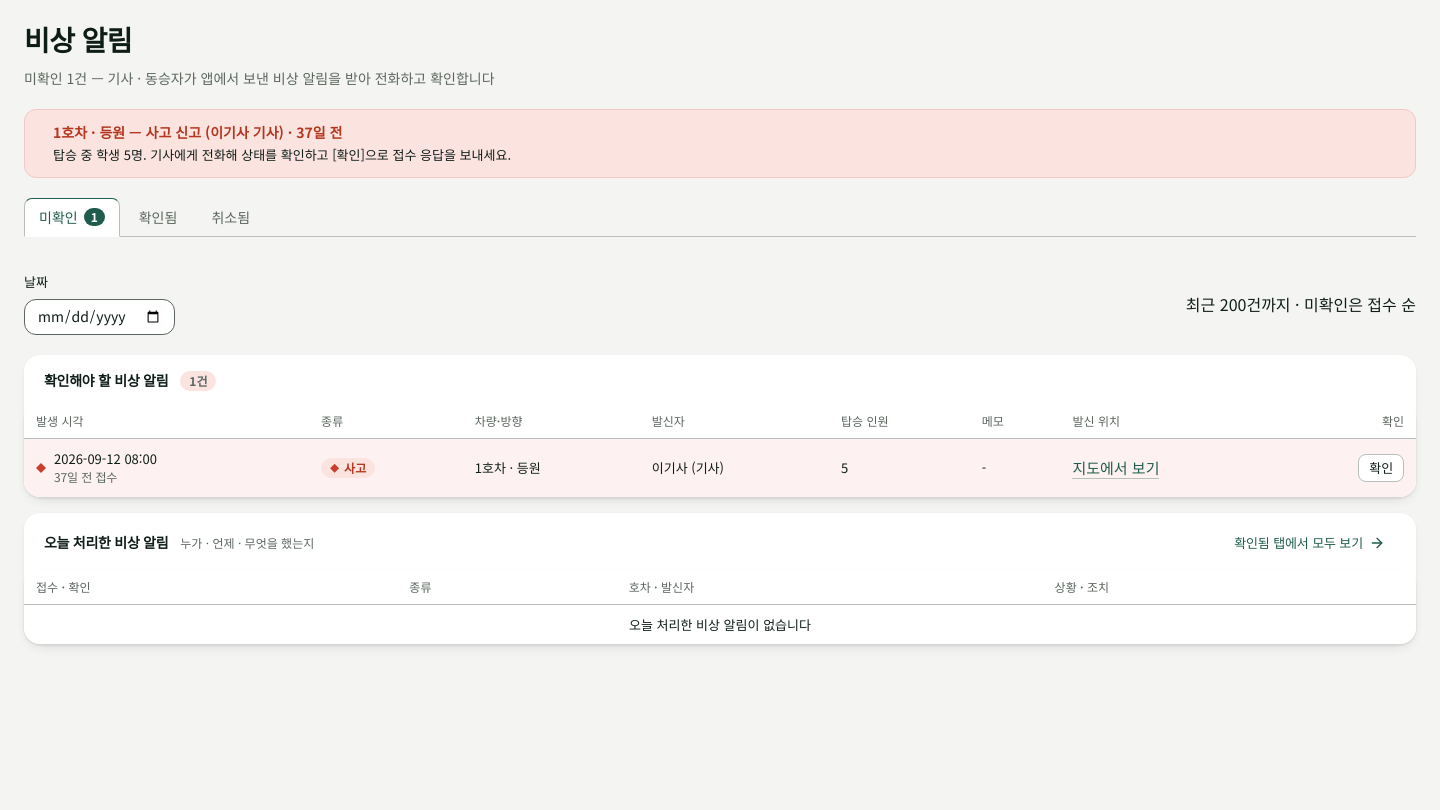
Test case: EmergencyList — 확인(ack) 실패 갈래 › 확인 처리가 거부되면 목록을 다시 불러오지 않고 오류 문구를 보여준다
Click the button "확인" at x=1381, y=468, box [1358,454,1404,482]
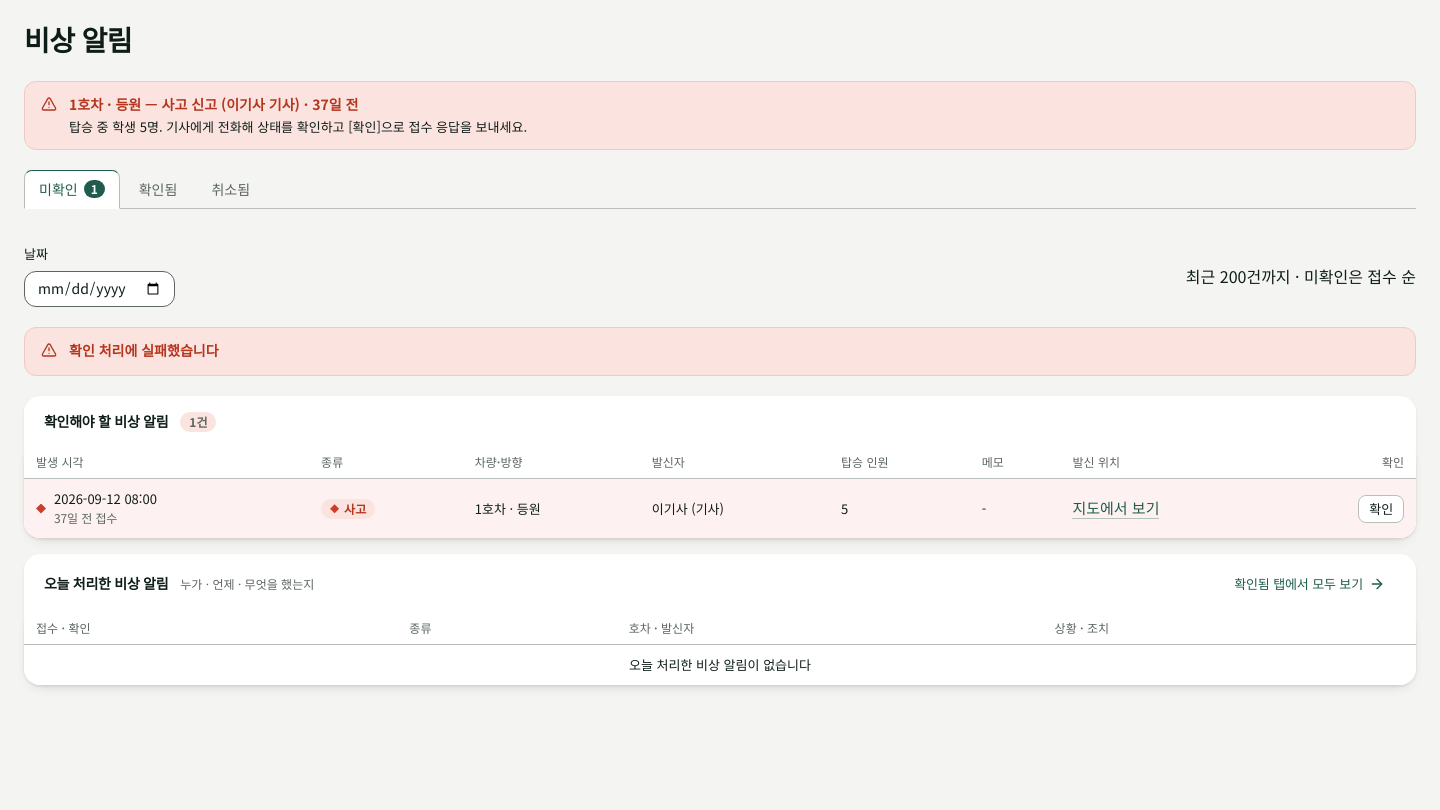
Expected: the text "확인 처리에 실패했습니다" is shown, [69,340,218,360]
